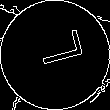L_W: (27, 33, 83, 77)
